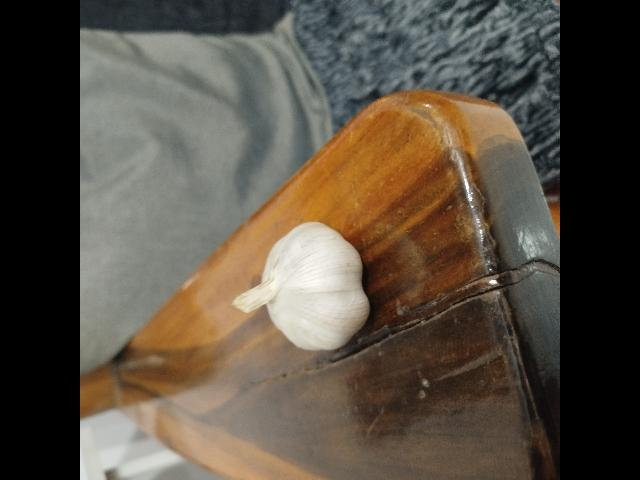garlic: (232, 220, 371, 350)
